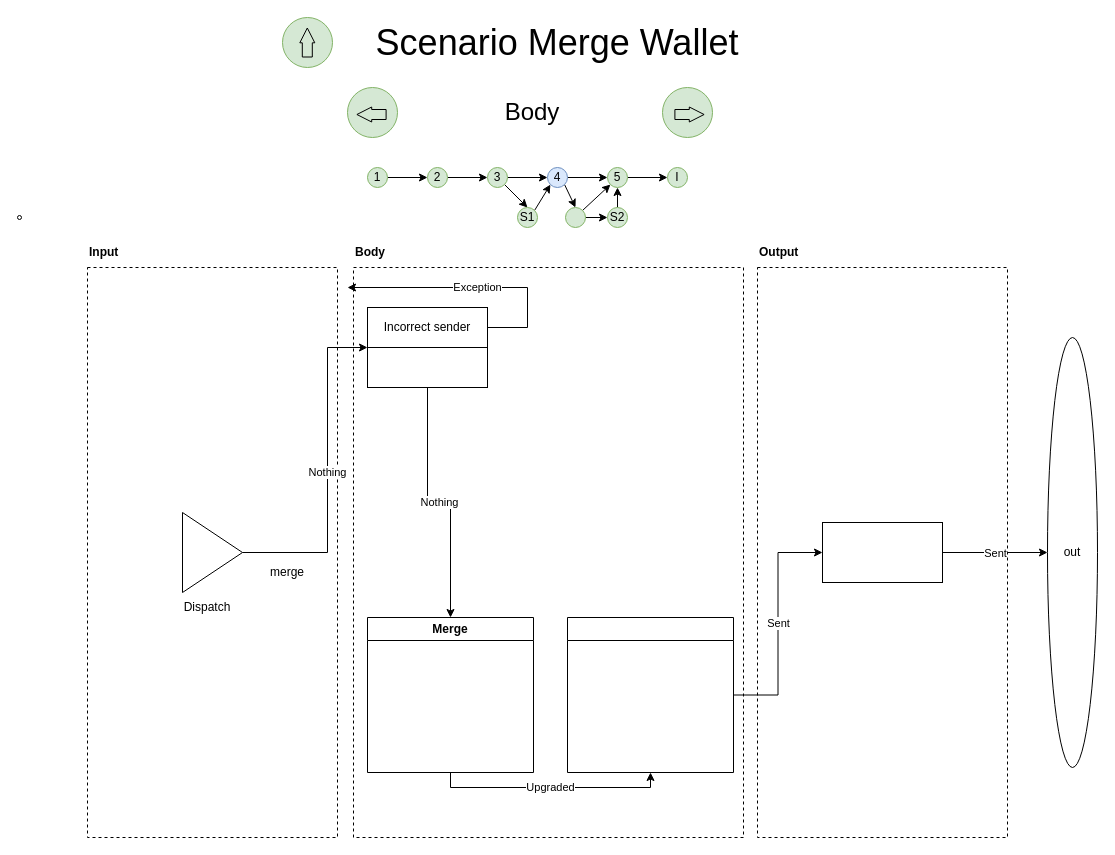
Image size: 1115x855. Some labels were removed from this diagram. The centre of each missing label's shape, as x and y in pixels:
autotest: (212,552)
Otherwise: (427,367)
Send notification: (650,694)
T1: (575,217)
Wallet merged: (882,552)
